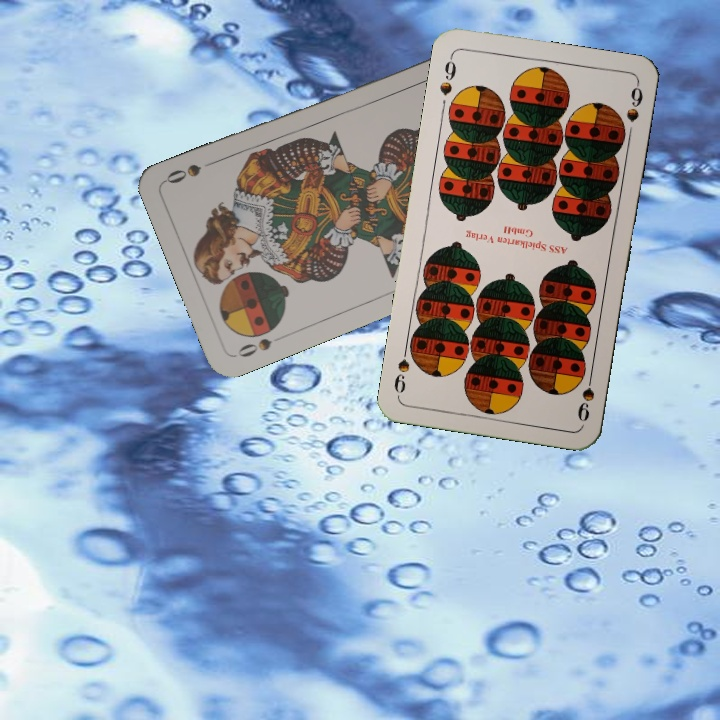S9: (573, 366, 597, 425), (436, 51, 459, 98)
SO: (231, 334, 274, 360)
